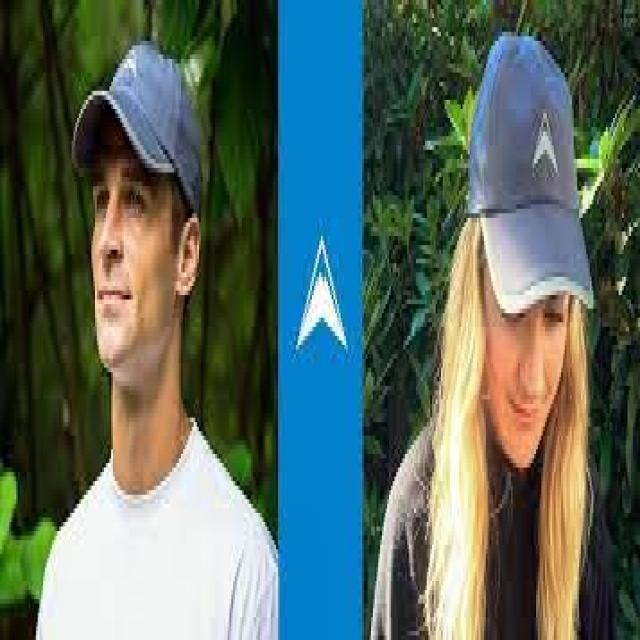cap: (444, 6, 610, 348), (68, 8, 215, 248)
